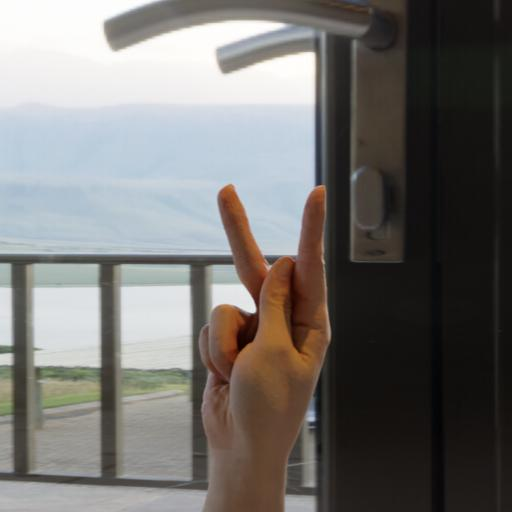K: (136, 150, 422, 468)
